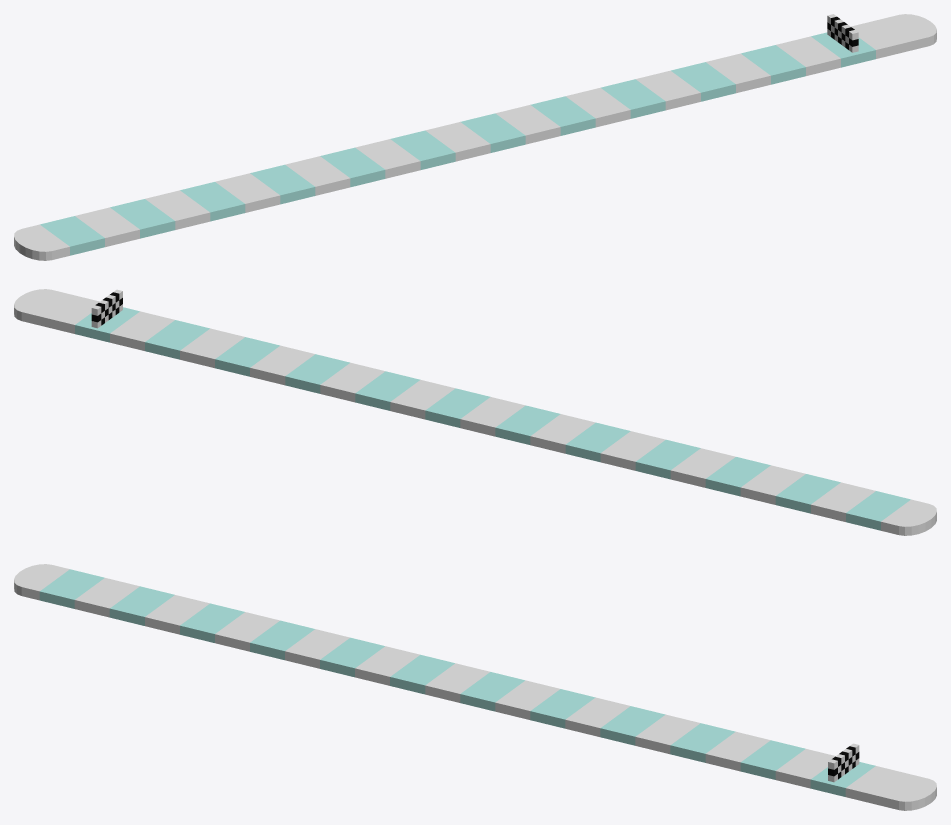
File: TRACK 1.fbx
The picture shows the model from 3 angles, top to bottom: view 1: azimuth 30°, elevation 25°; view 2: azimuth 150°, elevation 25°; view 3: azimuth 330°, elevation 25°; orthographic projection.
Visible parts, largest first — view 1: Cube.001, Cube.017, Cube.006, Cube.007, Cube.010, Cube.016, Cube.005, Cube.009, Cube.011, Cube.013, Cube.014, Cube.019 (+14 smaller); view 2: Cube.001, Cube.011, Cube.004, Cube.016, Cube.017, Cube.018, Cube.005, Cube.007, Cube.008, Cube.009, Cube.010, Cube.015 (+14 smaller); view 3: Cube, Cube.016, Cube.002, Cube.017, Cube.018, Cube.022, Cube.003, Cube.004, Cube.013, Cube.015, Cube.021, Cube.025 (+14 smaller).
Boxes of the visible parts, bbox=[...] form: Cube.001: bbox=[14, 224, 69, 260]; Cube.017: bbox=[565, 87, 630, 127]; Cube.006: bbox=[180, 182, 245, 221]; Cube.007: bbox=[215, 173, 280, 212]; Cube.010: bbox=[320, 147, 385, 187]; Cube.016: bbox=[530, 96, 595, 135]; Cube.005: bbox=[145, 190, 210, 229]; Cube.009: bbox=[285, 156, 350, 195]; Cube.011: bbox=[355, 139, 420, 178]; Cube.013: bbox=[425, 122, 490, 161]; Cube.014: bbox=[460, 113, 525, 152]; Cube.019: bbox=[635, 70, 700, 110]; Cube.001: bbox=[881, 499, 936, 535]; Cube.011: bbox=[530, 414, 595, 453]; Cube.004: bbox=[775, 474, 840, 513]; Cube.016: bbox=[355, 371, 420, 410]; Cube.017: bbox=[320, 362, 385, 402]; Cube.018: bbox=[285, 354, 349, 393]; Cube.005: bbox=[740, 465, 805, 504]; Cube.007: bbox=[670, 448, 735, 487]; Cube.008: bbox=[635, 439, 700, 479]; Cube.009: bbox=[600, 431, 665, 470]; Cube.010: bbox=[565, 422, 630, 462]; Cube.015: bbox=[390, 380, 454, 419]; Cube: bbox=[880, 774, 936, 810]; Cube.016: bbox=[530, 689, 595, 728]; Cube.002: bbox=[39, 569, 104, 608]; Cube.017: bbox=[565, 697, 630, 736]; Cube.018: bbox=[600, 706, 665, 745]; Cube.022: bbox=[740, 740, 805, 779]; Cube.003: bbox=[74, 578, 139, 617]; Cube.004: bbox=[109, 586, 174, 625]; Cube.013: bbox=[425, 663, 490, 702]; Cube.015: bbox=[495, 680, 559, 719]; Cube.021: bbox=[705, 731, 770, 771]; Cube.025: bbox=[845, 766, 910, 805].
Size of the model in its own units: 10400 by 306 by 600.
